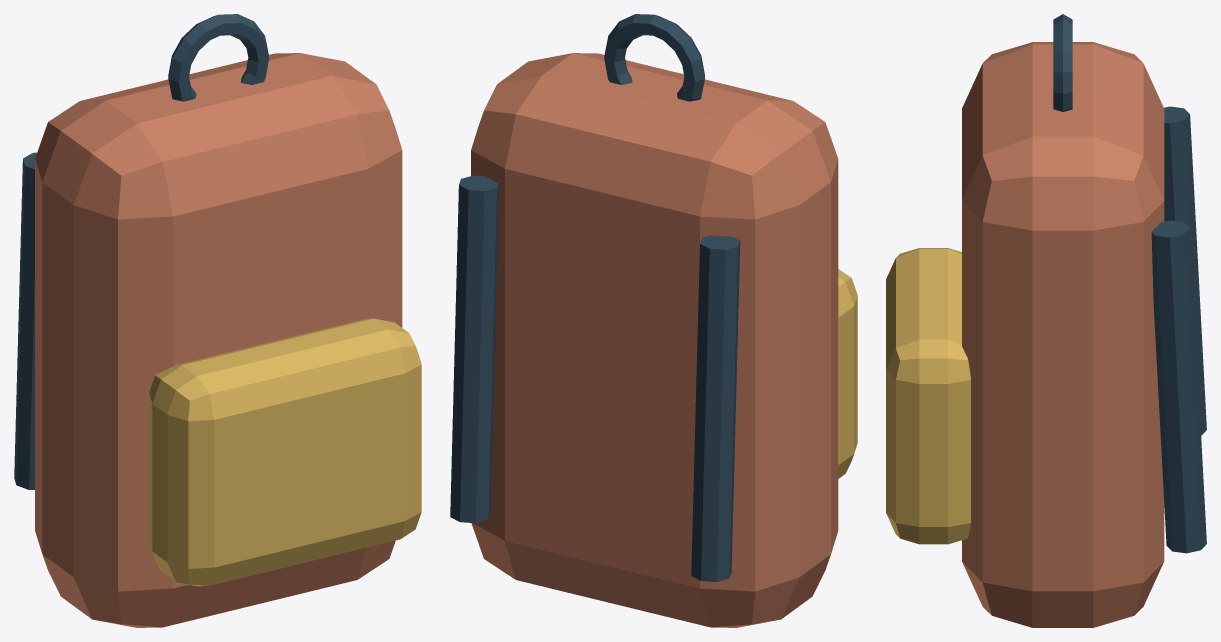
File: backpack.glb
3 views of the same model, side by side, from view 1: azimuth 30°, elevation 25°; view 2: azimuth 150°, elevation 25°; view 3: azimuth 270°, elevation 25° (orthographic). The views are drawn at different scales.
Parts seen in each view (by area): view 1: backpack_Mesh; view 2: backpack_Mesh; view 3: backpack_Mesh.
Boxes of the visible parts, x1,y1,x2,y2 form: backpack_Mesh: (14,14,421,627); backpack_Mesh: (450,14,857,627); backpack_Mesh: (886,14,1206,627).
Bounding box in the file's own units: 0.32 × 0.55 × 0.2855.
